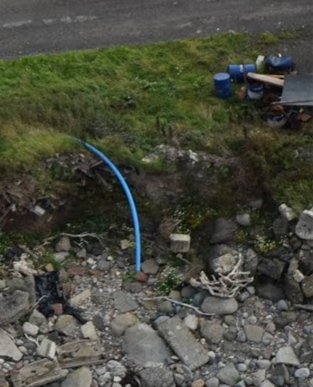together_barrel: (210, 43, 297, 127)
tube: (118, 189, 147, 274), (80, 141, 128, 188)
